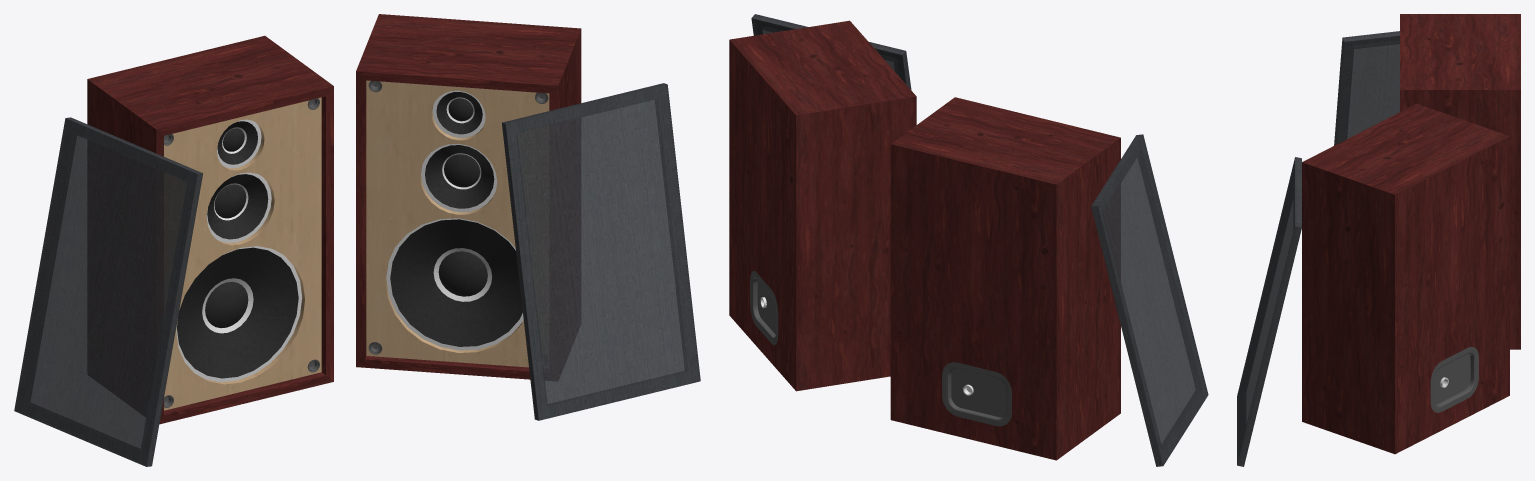
The model's file is objv-home-stereo-speakers.glb.
The picture shows the model from 3 angles, left to right: view 1: azimuth 30°, elevation 25°; view 2: azimuth 150°, elevation 25°; view 3: azimuth 270°, elevation 25°; orthographic projection. The views are drawn at different scales.
Parts seen in each view (by area): view 1: Material2 (×21); view 2: Material2 (×8); view 3: Material2 (×6).
Part boxes in pixels (x1,y1,x2,y2): Material2 (×21): (14, 14, 700, 466); Material2 (×8): (729, 14, 1208, 466); Material2 (×6): (1237, 14, 1520, 466).
Bounding box in the file's own units: 53.71 × 27.81 × 27.57.
Materials: 8 (4 with a texture image).
